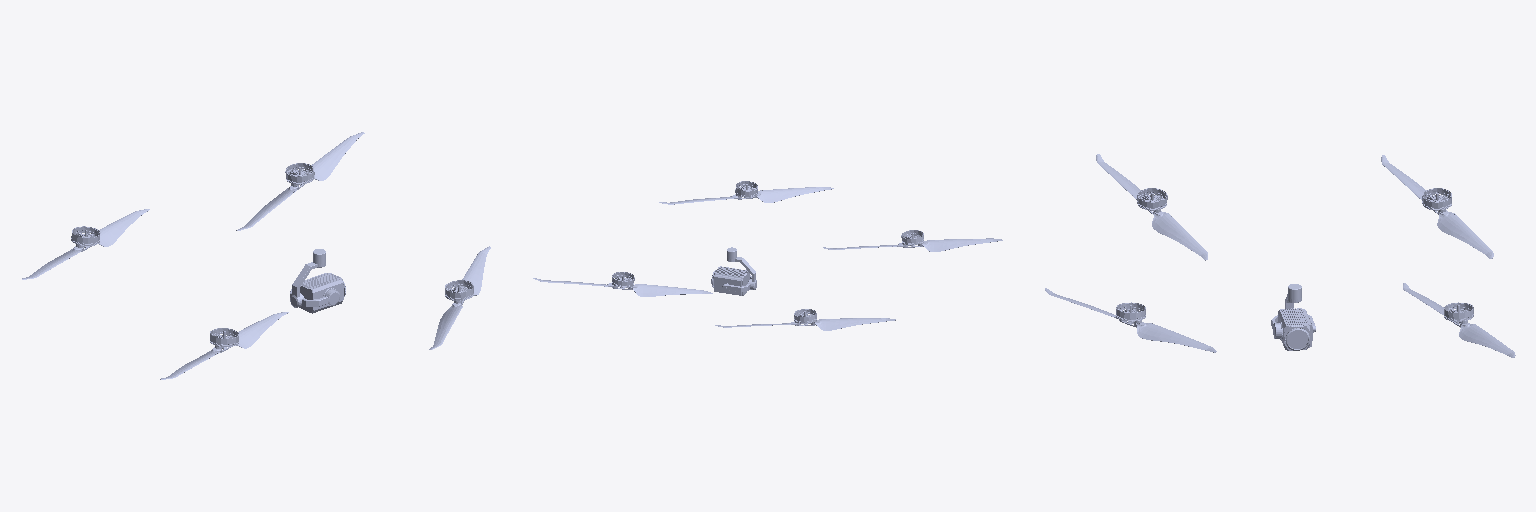
URDF robot description (drone_description):
<?xml version="1.0" encoding="utf-8"?>
<!-- This URDF was automatically created by SolidWorks to URDF Exporter! Originally created by Stephen Brawner ([email redacted]) 
     Commit Version: 1.6.0-4-g7f85cfe  Build Version: 1.6.7995.38578
     For more information, please see http://wiki.ros.org/sw_urdf_exporter -->
<robot
  name="drone_description">
  <link
    name="base_link">
    <inertial>
      <origin
        xyz="-0.0263 -0.00062804 0.037744"
        rpy="0 0 0" />
      <mass
        value="3.3794" />
      <inertia
        ixx="0.0032142"
        ixy="2.0003E-05"
        ixz="0.00014346"
        iyy="0.0098163"
        iyz="2.3093E-06"
        izz="0.011438" />
    </inertial>
    <visual>
      <origin
        xyz="0 0 0"
        rpy="0 0 0" />
      <geometry>
        <mesh
          filename="package://drone_description/meshes/base_link.STL" />
      </geometry>
      <material
        name="">
        <color
          rgba="0.75294 0.75294 0.75294 1" />
      </material>
    </visual>
    <collision>
      <origin
        xyz="0 0 0"
        rpy="0 0 0" />
      <geometry>
        <mesh
          filename="package://drone_description/meshes/base_link.STL" />
      </geometry>
    </collision>
  </link>
  <link
    name="fr_prop_link">
    <inertial>
      <origin
        xyz="0.00228621059042466 -0.000604146249716386 -0.0318658213695621"
        rpy="0 0 0" />
      <mass
        value="0.0517742689956703" />
      <inertia
        ixx="0.00020810059955811"
        ixy="-0.000184191765063913"
        ixz="-9.16178396754691E-06"
        iyy="0.000185580068186671"
        iyz="-9.44332350493997E-06"
        izz="0.000383998449916041" />
    </inertial>
    <visual>
      <origin
        xyz="0 0 0"
        rpy="0 0 0" />
      <geometry>
        <mesh
          filename="package://drone_description/meshes/fr_prop_link.STL" />
      </geometry>
      <material
        name="">
        <color
          rgba="0.792156862745098 0.819607843137255 0.933333333333333 1" />
      </material>
    </visual>
    <collision>
      <origin
        xyz="0 0 0"
        rpy="0 0 0" />
      <geometry>
        <mesh
          filename="package://drone_description/meshes/fr_prop_link.STL" />
      </geometry>
    </collision>
  </link>
  <joint
    name="fr_prop_joint"
    type="continuous">
    <origin
      xyz="0.28386 -0.36292 -0.024736"
      rpy="0 0 0" />
    <parent
      link="base_link" />
    <child
      link="fr_prop_link" />
    <axis
      xyz="0.071515 -0.018874 -0.99726" />
  </joint>
  <link
    name="fl_prop_link">
    <inertial>
      <origin
        xyz="0.00228581969045111 0.00060169080665684 -0.0318660775251255"
        rpy="0 0 0" />
      <mass
        value="0.0517760704391253" />
      <inertia
        ixx="9.8918195644481E-05"
        ixy="-0.000155099063110766"
        ixz="-2.34158800542053E-05"
        iyy="0.000296242182126736"
        iyz="-1.27924825727884E-05"
        izz="0.00038259207672918" />
    </inertial>
    <visual>
      <origin
        xyz="0 0 0"
        rpy="0 0 0" />
      <geometry>
        <mesh
          filename="package://drone_description/meshes/fl_prop_link.STL" />
      </geometry>
      <material
        name="">
        <color
          rgba="0.792156862745098 0.819607843137255 0.933333333333333 1" />
      </material>
    </visual>
    <collision>
      <origin
        xyz="0 0 0"
        rpy="0 0 0" />
      <geometry>
        <mesh
          filename="package://drone_description/meshes/fl_prop_link.STL" />
      </geometry>
    </collision>
  </link>
  <joint
    name="fl_prop_joint"
    type="continuous">
    <origin
      xyz="0.28386 0.36292 -0.024736"
      rpy="0 0 0" />
    <parent
      link="base_link" />
    <child
      link="fl_prop_link" />
    <axis
      xyz="0.071515 0.018874 -0.99726" />
  </joint>
  <link
    name="br_prop_link">
    <inertial>
      <origin
        xyz="-0.00232088263222802 -0.000444276465700444 -0.0318661799537909"
        rpy="0 0 0" />
      <mass
        value="0.0517759661201676" />
      <inertia
        ixx="9.74094714604786E-05"
        ixy="-0.000154192657922875"
        ixz="2.30593067513961E-05"
        iyy="0.000297682090921109"
        iyz="1.24406886381546E-05"
        izz="0.000382660292259361" />
    </inertial>
    <visual>
      <origin
        xyz="0 0 0"
        rpy="0 0 0" />
      <geometry>
        <mesh
          filename="package://drone_description/meshes/br_prop_link.STL" />
      </geometry>
      <material
        name="">
        <color
          rgba="0.792156862745098 0.819607843137255 0.933333333333333 1" />
      </material>
    </visual>
    <collision>
      <origin
        xyz="0 0 0"
        rpy="0 0 0" />
      <geometry>
        <mesh
          filename="package://drone_description/meshes/br_prop_link.STL" />
      </geometry>
    </collision>
  </link>
  <joint
    name="br_prop_joint"
    type="continuous">
    <origin
      xyz="-0.30489 -0.31528 -0.024736"
      rpy="0 0 0" />
    <parent
      link="base_link" />
    <child
      link="br_prop_link" />
    <axis
      xyz="-0.072653 -0.013861 -0.99726" />
  </joint>
  <link
    name="bl_prop_link">
    <inertial>
      <origin
        xyz="-0.00232102854999633 0.000441469285262786 -0.031866208920347"
        rpy="0 0 0" />
      <mass
        value="0.0517760690289633" />
      <inertia
        ixx="9.70174132751842E-05"
        ixy="-0.000154518358180511"
        ixz="1.87971058580249E-05"
        iyy="0.000297452292085239"
        iyz="1.00474312963819E-05"
        izz="0.000383284621812351" />
    </inertial>
    <visual>
      <origin
        xyz="0 0 0"
        rpy="0 0 0" />
      <geometry>
        <mesh
          filename="package://drone_description/meshes/bl_prop_link.STL" />
      </geometry>
      <material
        name="">
        <color
          rgba="0.792156862745098 0.819607843137255 0.933333333333333 1" />
      </material>
    </visual>
    <collision>
      <origin
        xyz="0 0 0"
        rpy="0 0 0" />
      <geometry>
        <mesh
          filename="package://drone_description/meshes/bl_prop_link.STL" />
      </geometry>
    </collision>
  </link>
  <joint
    name="bl_prop_joint"
    type="continuous">
    <origin
      xyz="-0.30489 0.31529 -0.024736"
      rpy="0 0 0" />
    <parent
      link="base_link" />
    <child
      link="bl_prop_link" />
    <axis
      xyz="-0.072653 0.013861 -0.99726" />
  </joint>
  <link
    name="arm_one_link">
    <inertial>
      <origin
        xyz="-0.0275982252224184 -0.0046307535698818 -0.0438910198457915"
        rpy="0 0 0" />
      <mass
        value="0.0498847677411126" />
      <inertia
        ixx="3.50342194631533E-05"
        ixy="-3.7826275192224E-06"
        ixz="-2.28307688907572E-05"
        iyy="5.69431151096246E-05"
        iyz="-3.83081389081462E-06"
        izz="2.81513689104768E-05" />
    </inertial>
    <visual>
      <origin
        xyz="0 0 0"
        rpy="0 0 0" />
      <geometry>
        <mesh
          filename="package://drone_description/meshes/arm_one_link.STL" />
      </geometry>
      <material
        name="">
        <color
          rgba="0.792156862745098 0.819607843137255 0.933333333333333 1" />
      </material>
    </visual>
    <collision>
      <origin
        xyz="0 0 0"
        rpy="0 0 0" />
      <geometry>
        <mesh
          filename="package://drone_description/meshes/arm_one_link.STL" />
      </geometry>
    </collision>
  </link>
  <joint
    name="arm_one_joint"
    type="continuous">
    <origin
      xyz="0.1262 0 -0.0519"
      rpy="0 0 0" />
    <parent
      link="base_link" />
    <child
      link="arm_one_link" />
    <axis
      xyz="0 0 -1" />
  </joint>
  <link
    name="arm_two_link">
    <inertial>
      <origin
        xyz="0.0357412876512809 -0.00170781054391012 0.000117767265252061"
        rpy="0 0 0" />
      <mass
        value="0.0326792841533979" />
      <inertia
        ixx="3.8181753059861E-05"
        ixy="1.12770263430845E-05"
        ixz="-2.4216171249835E-07"
        iyy="3.01112818927873E-05"
        iyz="5.68241831366402E-07"
        izz="6.53869048673944E-05" />
    </inertial>
    <visual>
      <origin
        xyz="0 0 0"
        rpy="0 0 0" />
      <geometry>
        <mesh
          filename="package://drone_description/meshes/arm_two_link.STL" />
      </geometry>
      <material
        name="">
        <color
          rgba="0.792156862745098 0.819607843137255 0.933333333333333 1" />
      </material>
    </visual>
    <collision>
      <origin
        xyz="0 0 0"
        rpy="0 0 0" />
      <geometry>
        <mesh
          filename="package://drone_description/meshes/arm_two_link.STL" />
      </geometry>
    </collision>
  </link>
  <joint
    name="arm_two_joint"
    type="continuous">
    <origin
      xyz="-0.061989 -0.010401 -0.10386"
      rpy="0 0 0" />
    <parent
      link="arm_one_link" />
    <child
      link="arm_two_link" />
    <axis
      xyz="-0.98621 -0.16548 0" />
  </joint>
  <link
    name="camera_link">
    <inertial>
      <origin
        xyz="-0.00804648665789653 0.0369732181362619 -0.00076184698056192"
        rpy="0 0 0" />
      <mass
        value="0.36349979485356" />
      <inertia
        ixx="0.00022688741131706"
        ixy="-2.16219970412951E-05"
        ixz="1.16359838977465E-07"
        iyy="0.000369363723647684"
        iyz="4.27923991833458E-07"
        izz="0.000396225584343995" />
    </inertial>
    <visual>
      <origin
        xyz="0 0 0"
        rpy="0 0 0" />
      <geometry>
        <mesh
          filename="package://drone_description/meshes/camera_link.STL" />
      </geometry>
      <material
        name="">
        <color
          rgba="0.792156862745098 0.819607843137255 0.933333333333333 1" />
      </material>
    </visual>
    <collision>
      <origin
        xyz="0 0 0"
        rpy="0 0 0" />
      <geometry>
        <mesh
          filename="package://drone_description/meshes/camera_link.STL" />
      </geometry>
    </collision>
  </link>
  <joint
    name="camera_joint"
    type="continuous">
    <origin
      xyz="0.073433 -0.026712 0.00059662"
      rpy="0 0 0" />
    <parent
      link="arm_two_link" />
    <child
      link="camera_link" />
    <axis
      xyz="-0.16546 0.98609 -0.015497" />
  </joint>
</robot>

--- Render facts (derived) ---
Views: 3 orthographic renders of the robot side by side, from view 1: azimuth 30°, elevation 25°; view 2: azimuth 150°, elevation 25°; view 3: azimuth 270°, elevation 25°.
Model drone_description with 8 links and 7 joints (7 continuous), rooted at base_link, posed all joints at 0.
Visible links, largest first — view 1: fl_prop_link, fr_prop_link, bl_prop_link, br_prop_link, camera_link, arm_one_link; view 2: fr_prop_link, fl_prop_link, br_prop_link, bl_prop_link, camera_link; view 3: br_prop_link, bl_prop_link, fr_prop_link, fl_prop_link, camera_link.
Boxes of the visible links, bbox=[...] form: fl_prop_link: bbox=[236, 132, 364, 230]; fr_prop_link: bbox=[429, 246, 490, 349]; bl_prop_link: bbox=[22, 209, 149, 279]; br_prop_link: bbox=[160, 312, 288, 379]; camera_link: bbox=[299, 273, 345, 313]; arm_one_link: bbox=[290, 249, 325, 307]; fr_prop_link: bbox=[659, 181, 833, 204]; fl_prop_link: bbox=[533, 272, 712, 296]; br_prop_link: bbox=[823, 230, 1002, 251]; bl_prop_link: bbox=[715, 309, 895, 330]; camera_link: bbox=[711, 266, 749, 295]; br_prop_link: bbox=[1096, 154, 1207, 260]; bl_prop_link: bbox=[1381, 155, 1493, 258]; fr_prop_link: bbox=[1045, 288, 1216, 352]; fl_prop_link: bbox=[1403, 283, 1515, 357]; camera_link: bbox=[1277, 308, 1312, 350].
Size in the robot's own frame: 1.07 by 1.04 by 0.1616 metres.
7 mesh visuals loaded from 8 distinct referenced files (7 binary STL); not drawn: 1 (reference not matched to a file when rendering).
